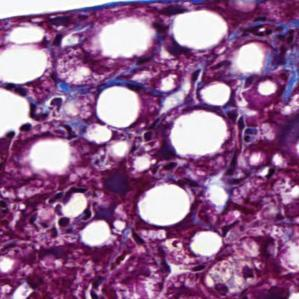inflammation: (92, 153, 136, 203)
